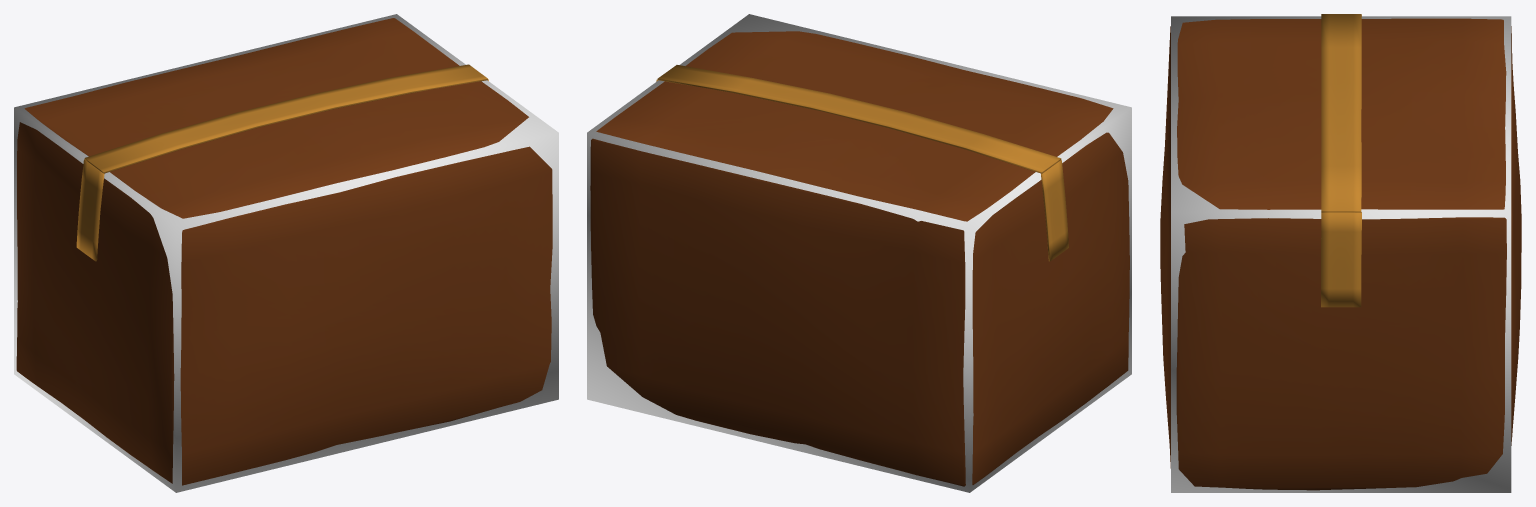
The model's file is caja_carton_grande.glb.
3 renders of one model, left to right at view 1: azimuth 30°, elevation 25°; view 2: azimuth 150°, elevation 25°; view 3: azimuth 270°, elevation 25°, orthographic. The views are drawn at different scales.
Parts seen in each view (by area): view 1: caja, caja_carton_grande-colcaja, cinta_0, cinta_2; view 2: caja, caja_carton_grande-colcaja, cinta_0, cinta_2; view 3: caja, caja_carton_grande-colcaja, cinta_0, cinta_1.
Part boxes in pixels (box(x1,y1,x2,y2)): caja: box(16, 18, 552, 485); caja_carton_grande-colcaja: box(14, 14, 558, 492); cinta_0: box(84, 64, 487, 173); cinta_2: box(76, 159, 104, 261); caja: box(590, 31, 1129, 486); caja_carton_grande-colcaja: box(587, 14, 1131, 492); cinta_0: box(657, 65, 1061, 173); cinta_2: box(1041, 160, 1068, 261); caja: box(1160, 18, 1521, 490); caja_carton_grande-colcaja: box(1171, 16, 1511, 492); cinta_0: box(1321, 14, 1361, 212); cinta_1: box(1321, 212, 1361, 307).
Bounding box in the file's own units: 0.7854 × 0.5361 × 0.5839.
